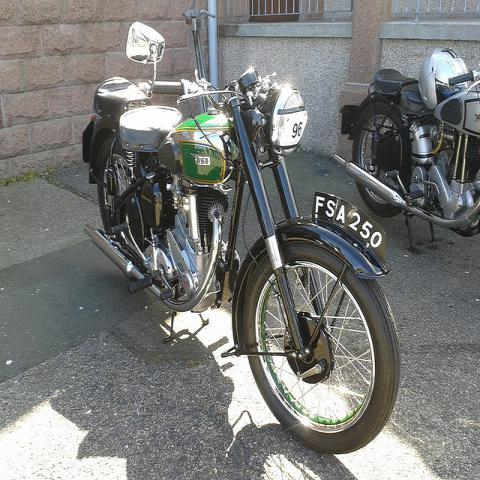motorcycle: (82, 22, 399, 456), (334, 69, 479, 251)
